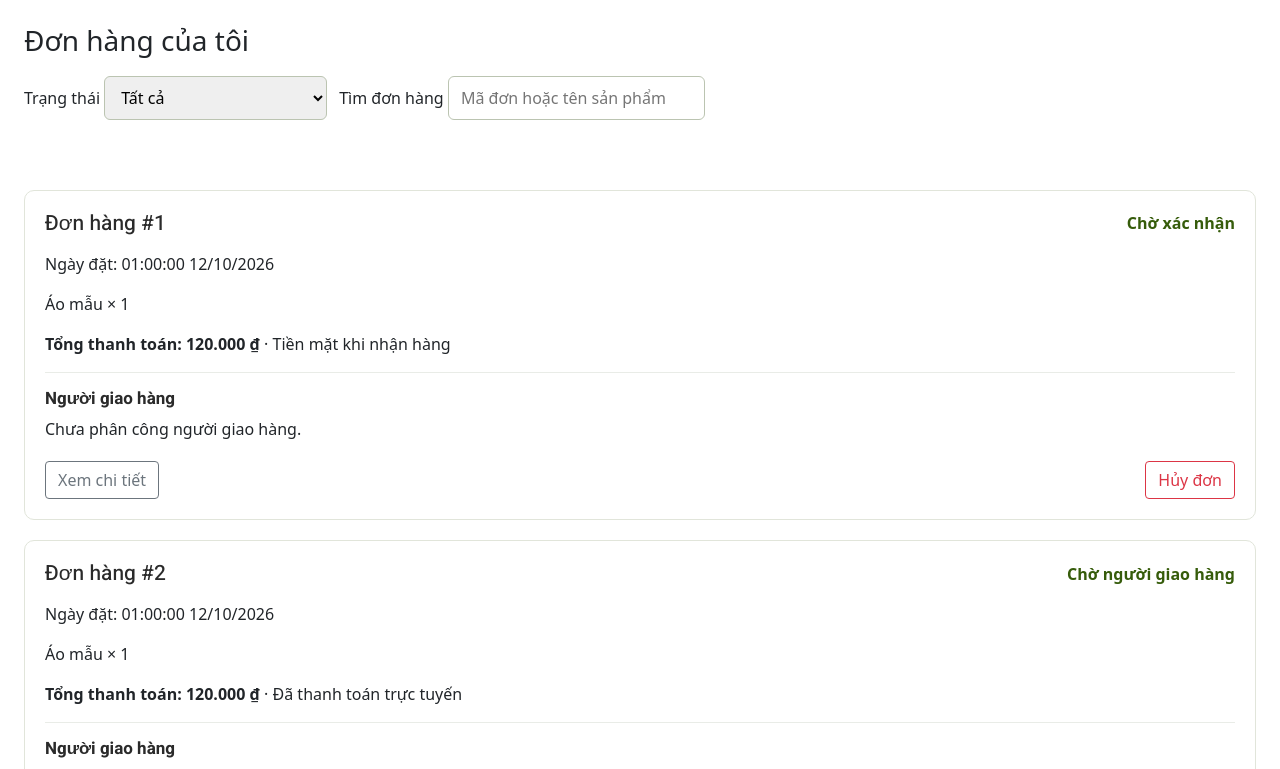
Test: cancellation requires a reason and only eligible unpaid orders offer cancellation
Click the button "Hủy đơn": (1190, 480) top-left (1145, 461), bottom-right (1235, 499)
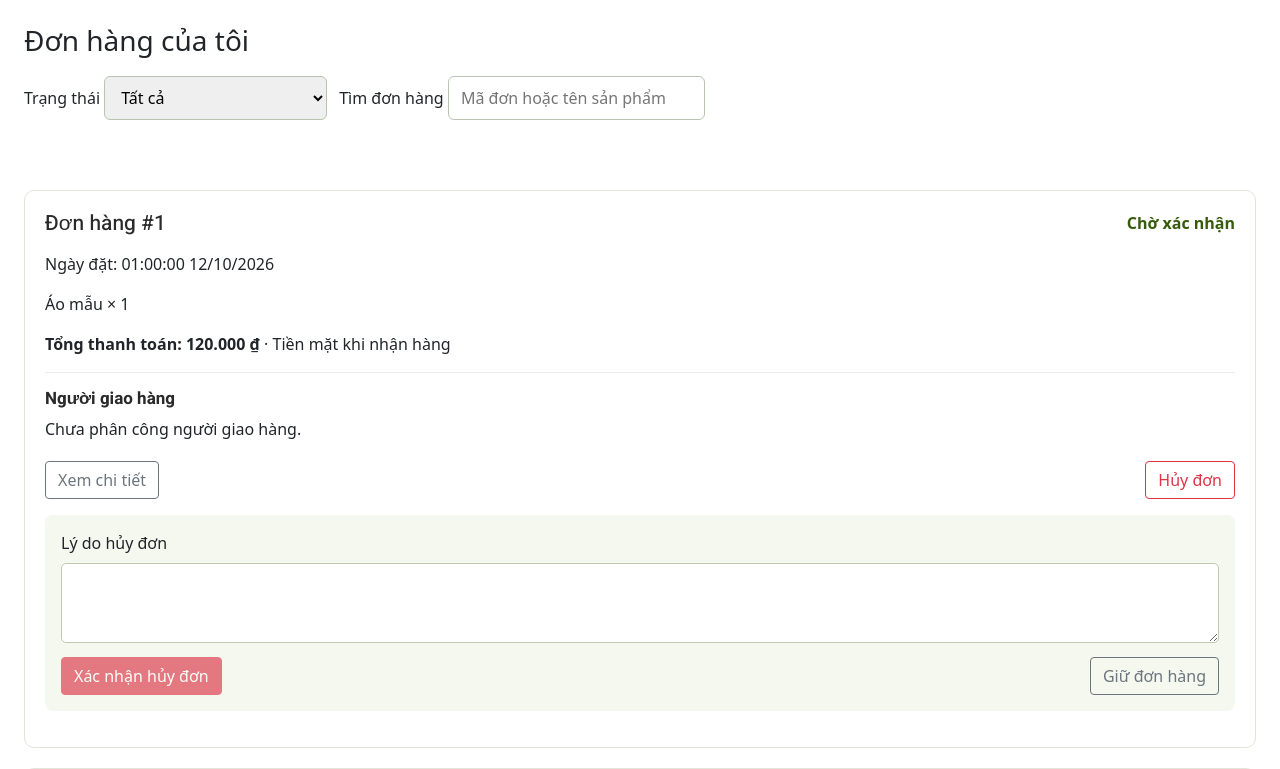
Expected: the button "Xác nhận hủy đơn" is disabled, top-left (61, 657), bottom-right (222, 695)
In the text box labelled "Lý do hủy đơn": (640, 603) top-left (61, 563), bottom-right (1219, 643), type "  Đặt nhầm sản phẩm  "
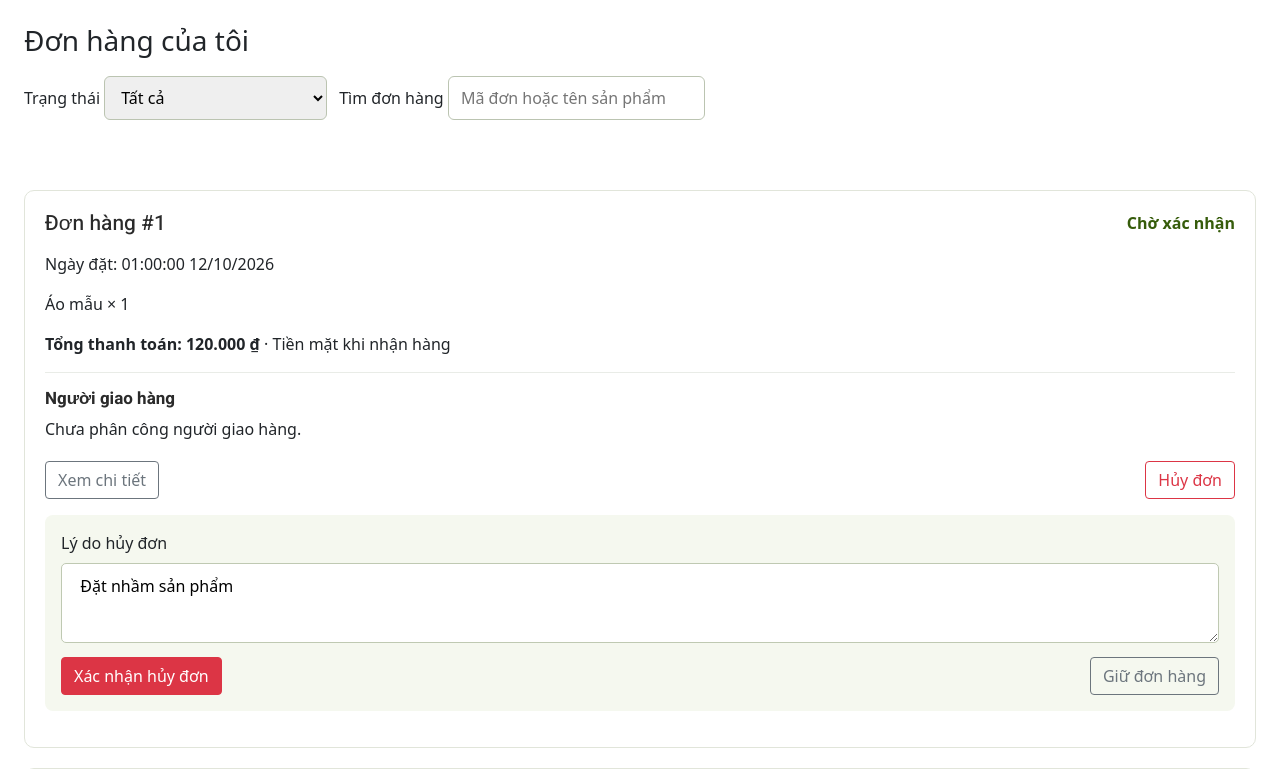
Click the button "Xác nhận hủy đơn": (141, 676) top-left (61, 657), bottom-right (222, 695)
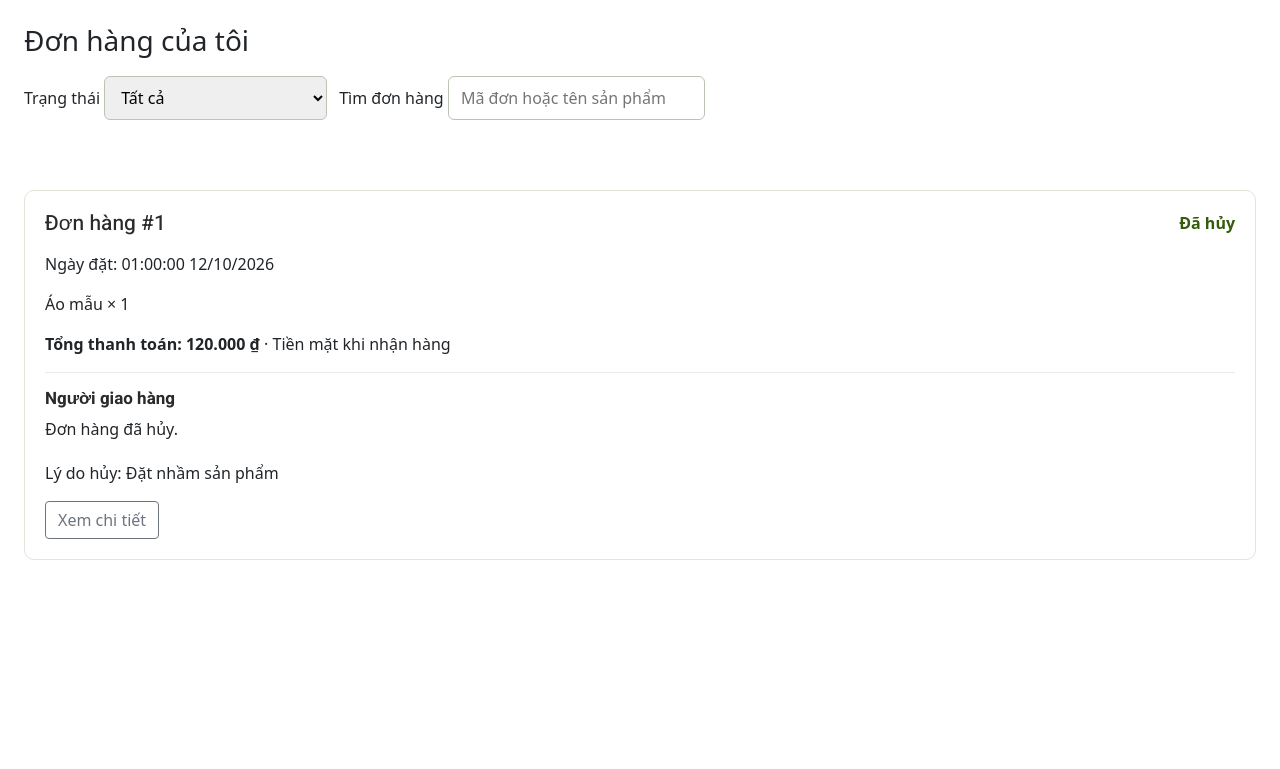
Expected: the text "Lý do hủy: Đặt nhầm sản phẩm" is shown, top-left (45, 462), bottom-right (279, 484)
